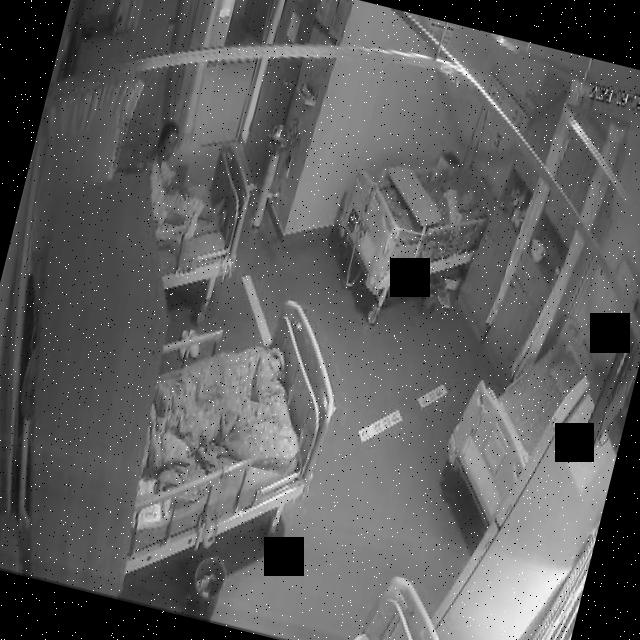bed: (117, 274, 357, 576), (308, 117, 502, 337), (429, 316, 593, 542), (128, 126, 264, 304)
patient: (124, 120, 246, 257), (428, 180, 484, 236)
sit: (124, 123, 243, 252)
